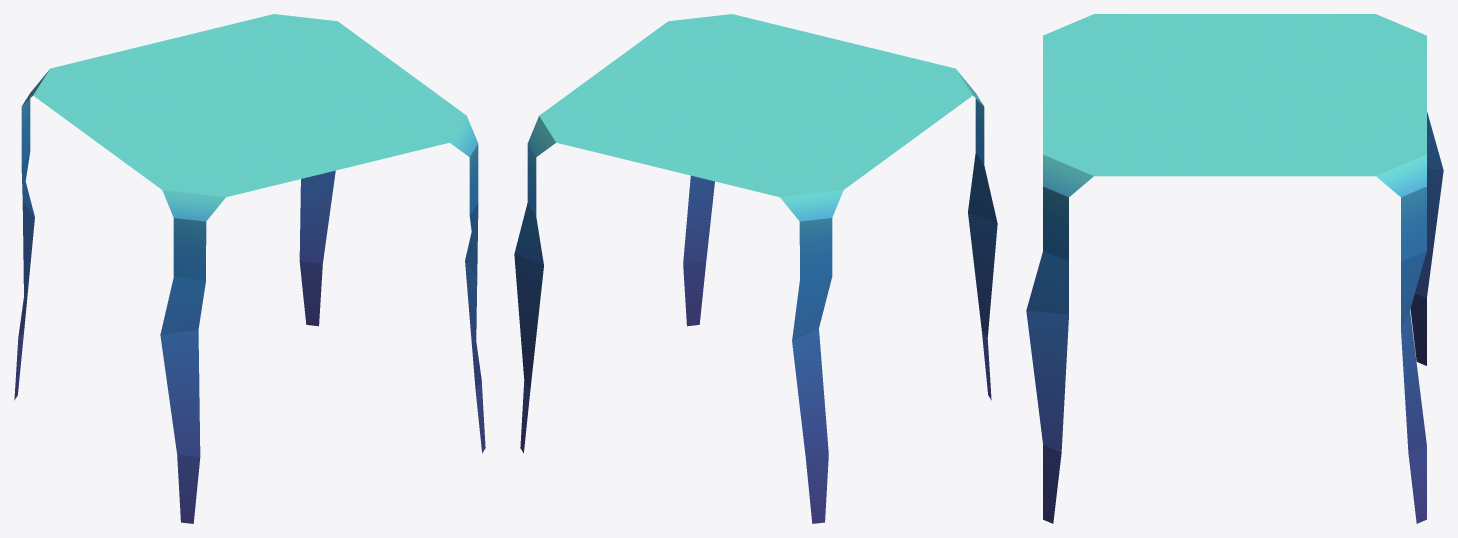
The picture shows the model from 3 angles, left to right: view 1: azimuth 30°, elevation 25°; view 2: azimuth 150°, elevation 25°; view 3: azimuth 270°, elevation 25°; orthographic projection. The views are drawn at different scales.
Visible parts, largest first — view 1: TopInnerCorner.006, TopInnerCorner.015, TopInnerCorner.005, TopInnerCorner.004, InnerCorner.006, InnerCorner.016, InnerCorner.005, InnerCorner.004; view 2: TopInnerCorner.004, TopInnerCorner.005, TopInnerCorner.015, TopInnerCorner.006, InnerCorner.004, InnerCorner.016, InnerCorner.006, InnerCorner.005; view 3: TopInnerCorner.005, TopInnerCorner.015, TopInnerCorner.004, TopInnerCorner.006, InnerCorner.005, InnerCorner.016, InnerCorner.004.
Part boxes in pixels (x1,y1,x2,y2): TopInnerCorner.006: (98, 105, 337, 197); TopInnerCorner.015: (162, 14, 401, 105); TopInnerCorner.005: (250, 68, 466, 169); TopInnerCorner.004: (33, 41, 249, 142); InnerCorner.006: (160, 190, 225, 523); InnerCorner.016: (299, 170, 335, 326); InnerCorner.005: (450, 116, 485, 453); InnerCorner.004: (14, 69, 49, 400); TopInnerCorner.004: (668, 105, 907, 197); TopInnerCorner.005: (604, 14, 843, 105); TopInnerCorner.015: (539, 68, 755, 169); TopInnerCorner.006: (756, 41, 972, 142); InnerCorner.004: (780, 190, 843, 523); InnerCorner.016: (514, 116, 555, 453); InnerCorner.006: (956, 69, 997, 400); InnerCorner.005: (683, 175, 714, 326); TopInnerCorner.005: (1043, 95, 1234, 176); TopInnerCorner.015: (1235, 95, 1426, 176); TopInnerCorner.004: (1235, 14, 1426, 94); TopInnerCorner.006: (1043, 14, 1234, 94); InnerCorner.005: (1026, 154, 1093, 523); InnerCorner.016: (1376, 154, 1426, 523); InnerCorner.004: (1410, 112, 1443, 365).
Bounding box in the file's own units: 653 × 600 × 653.
